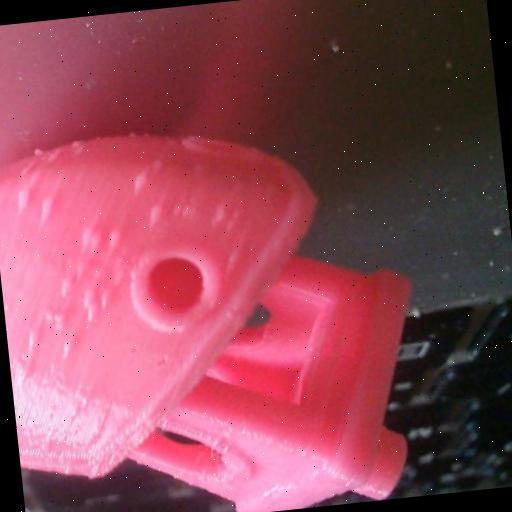blobs: (71, 224, 104, 256), (102, 222, 134, 254), (39, 304, 72, 330), (74, 290, 102, 320), (54, 333, 84, 360), (36, 196, 61, 224), (142, 201, 168, 226), (129, 166, 154, 191), (94, 286, 118, 311), (18, 327, 44, 349), (9, 185, 35, 206), (52, 274, 74, 295), (210, 203, 230, 226)
